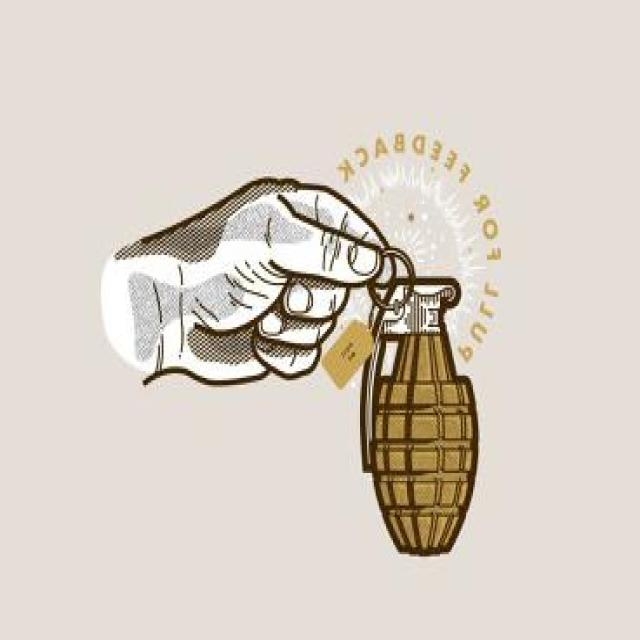grenade: (359, 249, 481, 562)
